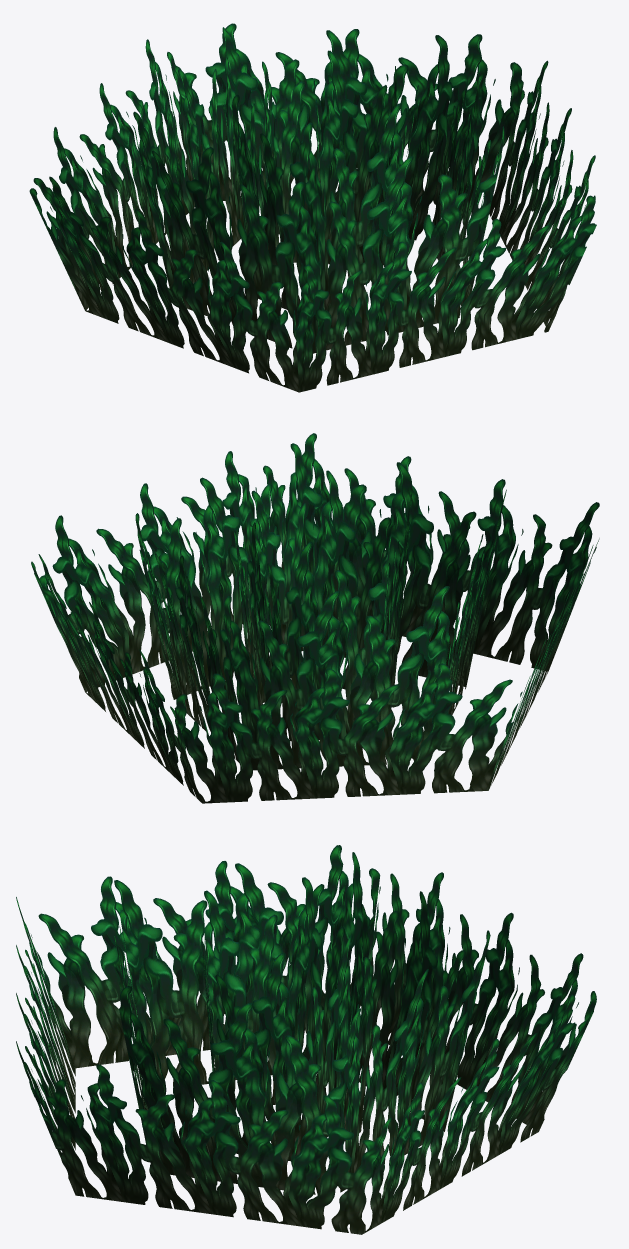
File: genericseaweed01.obj
3 views of the same model, one above another, from view 1: azimuth 30°, elevation 25°; view 2: azimuth 150°, elevation 25°; view 3: azimuth 270°, elevation 25° (orthographic). The views are drawn at different scales.
Visible parts, largest first — view 1: genericseaweed01; view 2: genericseaweed01; view 3: genericseaweed01.
Part boxes in pixels (x1,y1,x2,y2): genericseaweed01: (29,23,596,392); genericseaweed01: (31,433,599,803); genericseaweed01: (16,845,596,1234).
Size of the model in its own units: 2.04 by 0.7955 by 1.94.
1 material, 1 textured.
